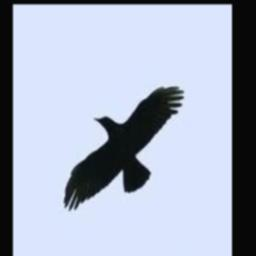Crow: (63, 86, 184, 211)
